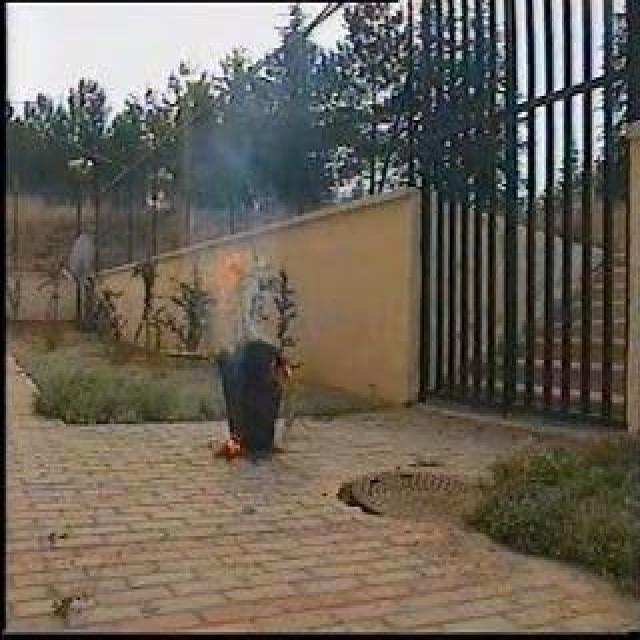fire: (214, 252, 248, 311)
smoke: (195, 90, 299, 234)
